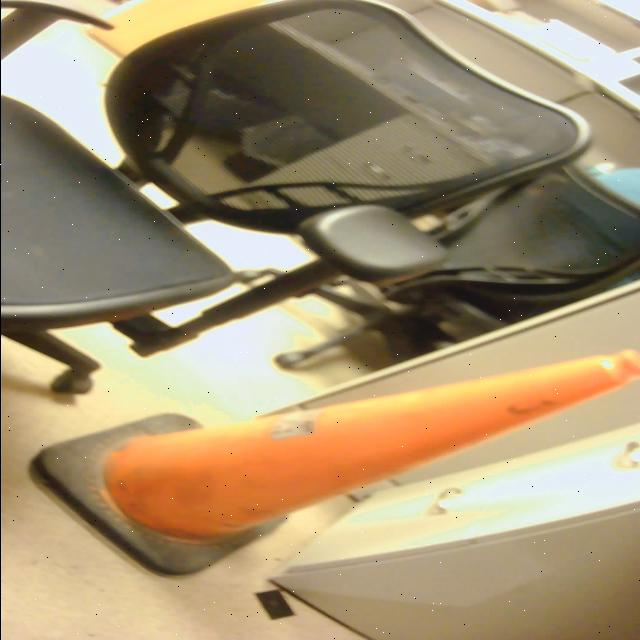traffic cone: (25, 347, 640, 585)
